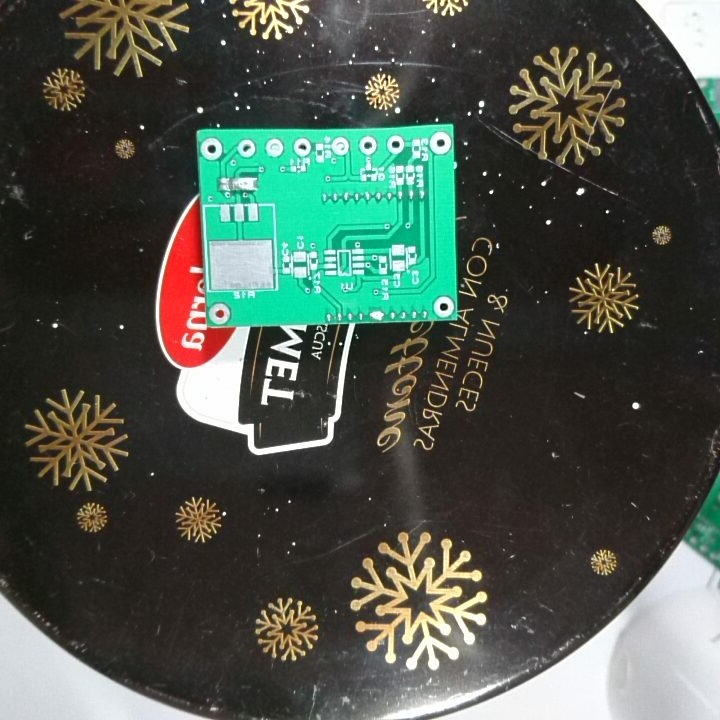F: (199, 136, 225, 163), (428, 130, 452, 157), (208, 300, 232, 326), (290, 135, 314, 159), (432, 294, 456, 318), (355, 134, 379, 157), (262, 137, 285, 159), (235, 137, 257, 160), (385, 134, 407, 155), (328, 136, 351, 156)
P: (230, 175, 262, 194), (368, 308, 388, 321)
